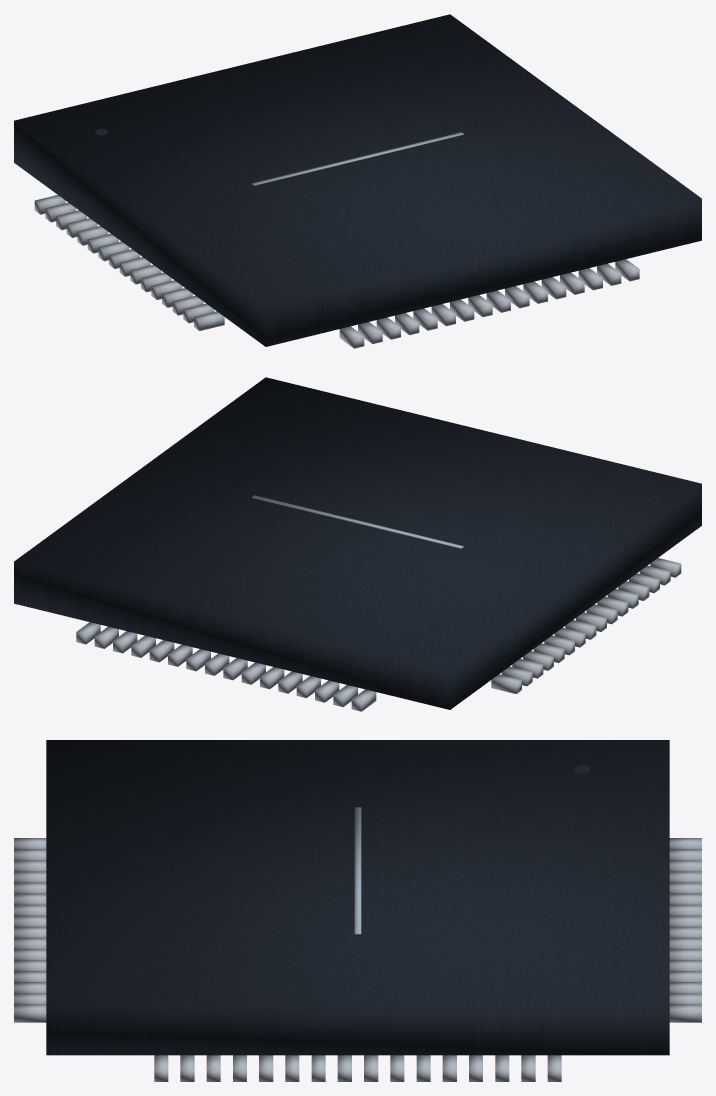
The picture shows the model from 3 angles, top to bottom: view 1: azimuth 30°, elevation 25°; view 2: azimuth 150°, elevation 25°; view 3: azimuth 270°, elevation 25°; orthographic projection. The views are drawn at different scales.
Parts seen in each view (by area): view 1: U1_Mold__PSMAT__IC_Mold, LaserMark__PSMAT__IC_LaserMark; view 2: U1_Mold__PSMAT__IC_Mold, LaserMark__PSMAT__IC_LaserMark; view 3: U1_Mold__PSMAT__IC_Mold, LaserMark__PSMAT__IC_LaserMark, GullWingLead_1_16__PSMAT__Solder_Tin, GullWingLead_0_16__PSMAT__Solder_Tin.
Boxes of the visible parts, left/top/right/bottom form: U1_Mold__PSMAT__IC_Mold: left=14, top=14, right=701, bottom=346; LaserMark__PSMAT__IC_LaserMark: left=252, top=132, right=463, bottom=185; U1_Mold__PSMAT__IC_Mold: left=14, top=377, right=701, bottom=709; LaserMark__PSMAT__IC_LaserMark: left=252, top=495, right=463, bottom=548; U1_Mold__PSMAT__IC_Mold: left=46, top=740, right=669, bottom=1055; LaserMark__PSMAT__IC_LaserMark: left=354, top=807, right=361, bottom=934; GullWingLead_1_16__PSMAT__Solder_Tin: left=14, top=1004, right=46, bottom=1022; GullWingLead_0_16__PSMAT__Solder_Tin: left=669, top=1004, right=701, bottom=1022.
Size of the model in its own units: 0.021 by 0.00228 by 0.021.
